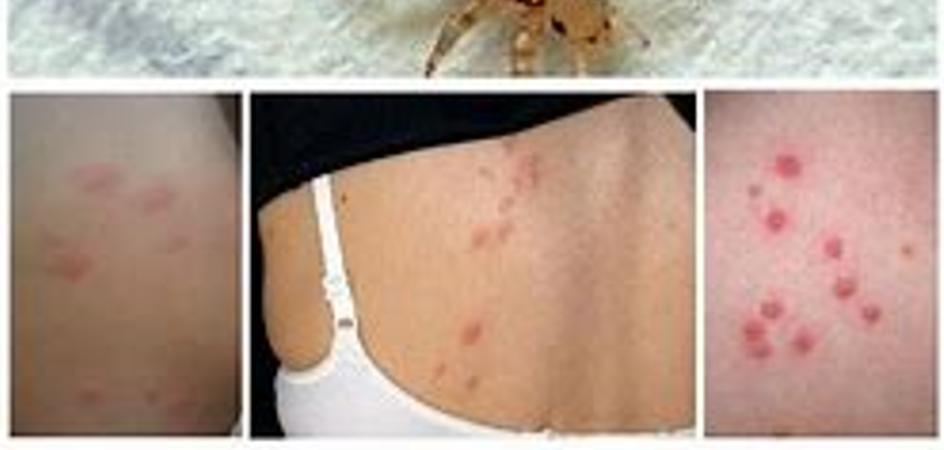Lice: (741, 143, 893, 380), (417, 277, 512, 400), (474, 145, 564, 265), (732, 280, 823, 383), (814, 235, 883, 328), (41, 230, 119, 310), (762, 142, 810, 255), (79, 127, 132, 215), (486, 170, 535, 257), (139, 157, 185, 232), (449, 317, 492, 375), (761, 192, 802, 250), (61, 368, 104, 412), (896, 223, 927, 277), (777, 143, 808, 190)
